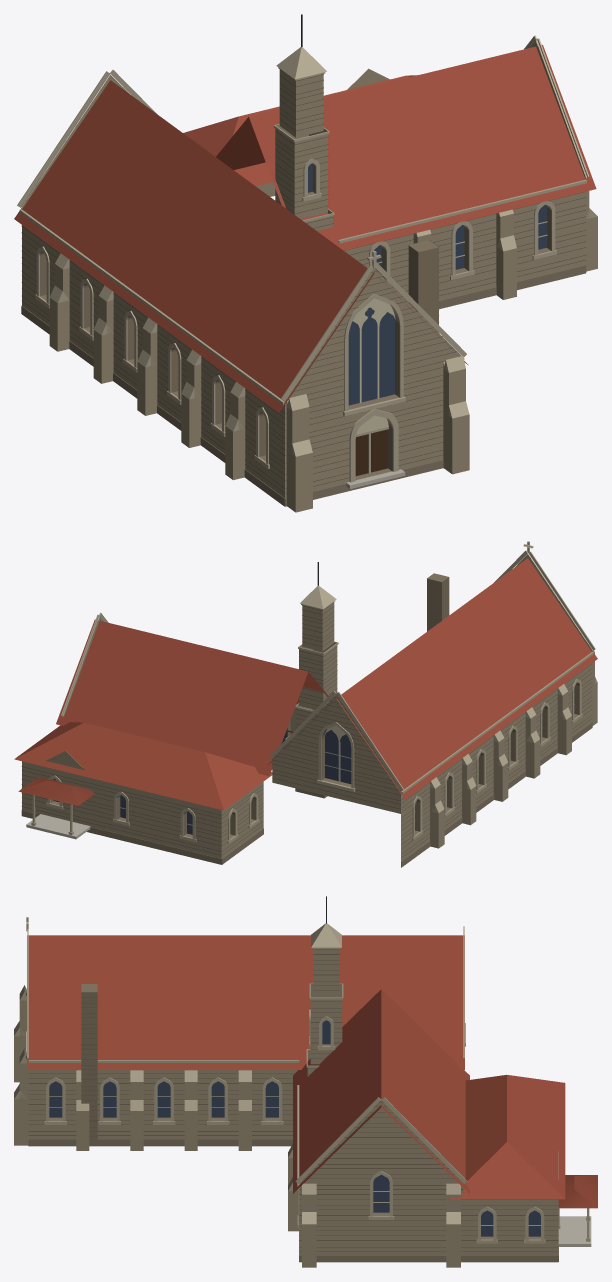
The model's file is ch-oak-forest-methodist-1961.glb.
3 renders of one model, top to bottom at view 1: azimuth 30°, elevation 25°; view 2: azimuth 150°, elevation 25°; view 3: azimuth 270°, elevation 25°, orthographic. The views are drawn at different scales.
Parts seen in each view (by area): view 1: ch_roof, ch_brick, ch_trim, ch_joint, ch_brick2, ch_stain, ch_base, ch_trc, ch_door; view 2: ch_roof, ch_brick, ch_trim, ch_joint, ch_brick2, ch_base, ch_stain, ch_roof2, ch_conc; view 3: ch_roof, ch_brick, ch_trim, ch_joint, ch_stain, ch_base, ch_brick2, ch_roof2, ch_conc.
Part boxes in pixels (x1,y1,x2,y2): ch_roof: (14,45,596,412); ch_brick: (22,41,597,512); ch_trim: (17,35,597,482); ch_joint: (21,70,585,493); ch_brick2: (40,163,551,479); ch_stain: (308,163,546,405); ch_base: (21,265,586,506); ch_trc: (46,221,547,442); ch_door: (355,429,387,475); ch_roof: (14,558,597,810); ch_brick: (22,554,597,861); ch_trim: (31,541,597,843); ch_joint: (21,573,591,857); ch_brick2: (50,573,579,838); ch_base: (21,722,592,867); ch_stain: (53,728,351,834); ch_roof2: (18,730,293,805); ch_conc: (26,814,90,839); ch_roof: (27,935,565,1199); ch_brick: (14,949,558,1267); ch_trim: (14,917,590,1243); ch_joint: (28,949,558,1251); ch_stain: (49,1020,540,1236); ch_base: (28,1139,558,1262); ch_brick2: (49,984,540,1239); ch_roof2: (558,1175,597,1208); ch_conc: (558,1216,591,1246).
Size of the model in its own units: 28.5 by 17.32 by 35.6.
